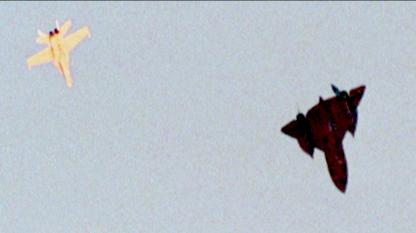F15: (25, 18, 91, 90)
Rafale: (280, 83, 366, 195)
